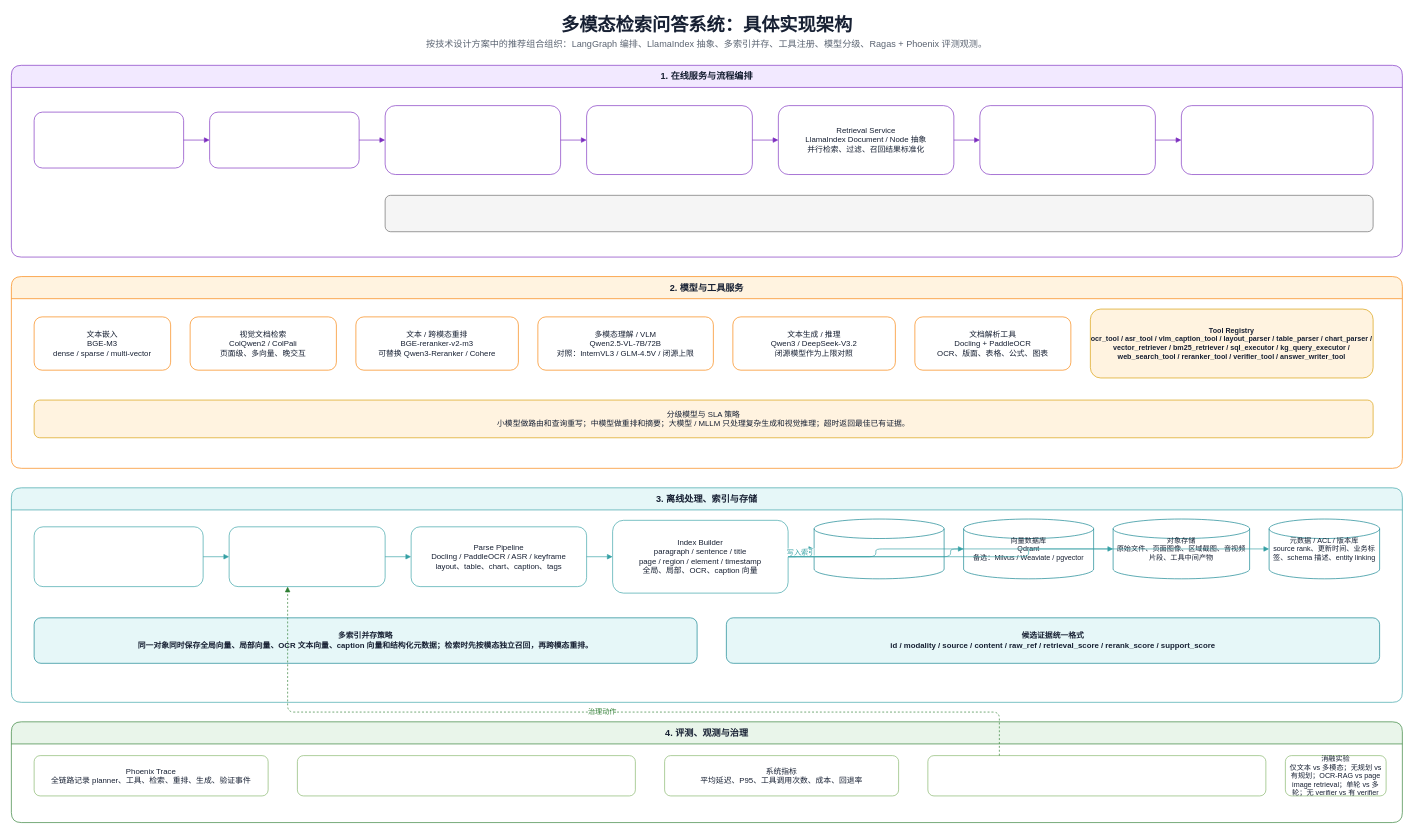
Image size: 1414x834. Some labels were removed from this diagram. Here are the shapes that lost their labels. From the top down, the centre of each, then its label:
the point at 108,139: Web / API Client 问答入口、上传入口、引用展示、人工反馈
the point at 284,139: API Gateway 鉴权、限流、会话、文件接收、流式响应
the point at 472,140: LangGraph Agent / State Machine 条件边、循环、最大跳数、人工介入、错误恢复
the point at 669,140: Query Planner Service 规则 + 小模型分类器 + LLM planner 输出任务类型、模态、预算
the point at 1067,140: Rerank & Evidence Service 跨模态候选统一格式 去重、融合、证据卡片、引用锚点
the point at 1277,140: Generation / Verification Service 证据充分性检查、生成、逐句验证、引用校验、拒答
the point at 878,213: Cache / Memory Store 会话记忆、工具结果缓存、证据缓存、embedding 缓存
the point at 118,556: 原始数据源 PDF / Office / 图片 / 表格 / 图表 / 音频 / 视频 / 数据库 / 日志 / 知识图谱
the point at 306,556: Ingestion Worker 增量导入、版本检测、权限同步、删除回收
the point at 878,548: BM25 / 关键词索引 Elasticsearch / OpenSearch 专有名词、编号、术语检索
the point at 466,775: Ragas / 自定义评测 Recall@K、MRR、nDCG、Evidence Recall、引用准确率、幻觉率、多跳成功率
the point at 1096,775: 数据治理闭环 知识缺口、过期文档、错误 chunk、权限问题、OCR/表格/图表解析失败
